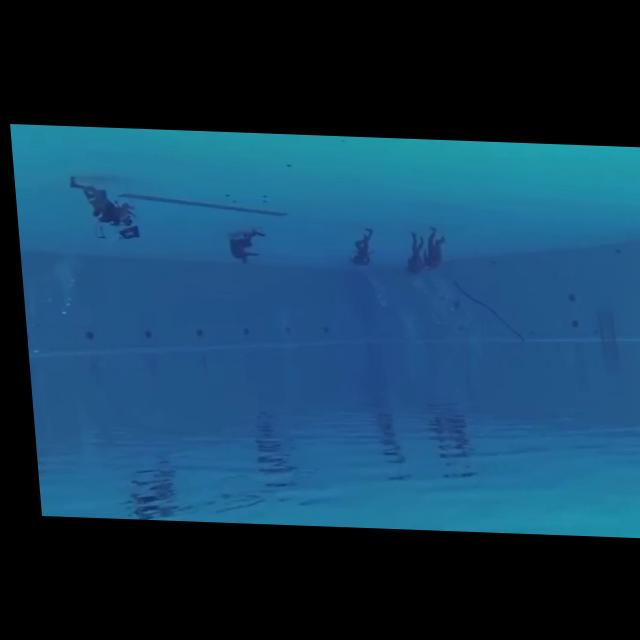human: (58, 171, 142, 249), (220, 217, 267, 269), (337, 217, 376, 270), (418, 219, 451, 275), (395, 224, 426, 282)
